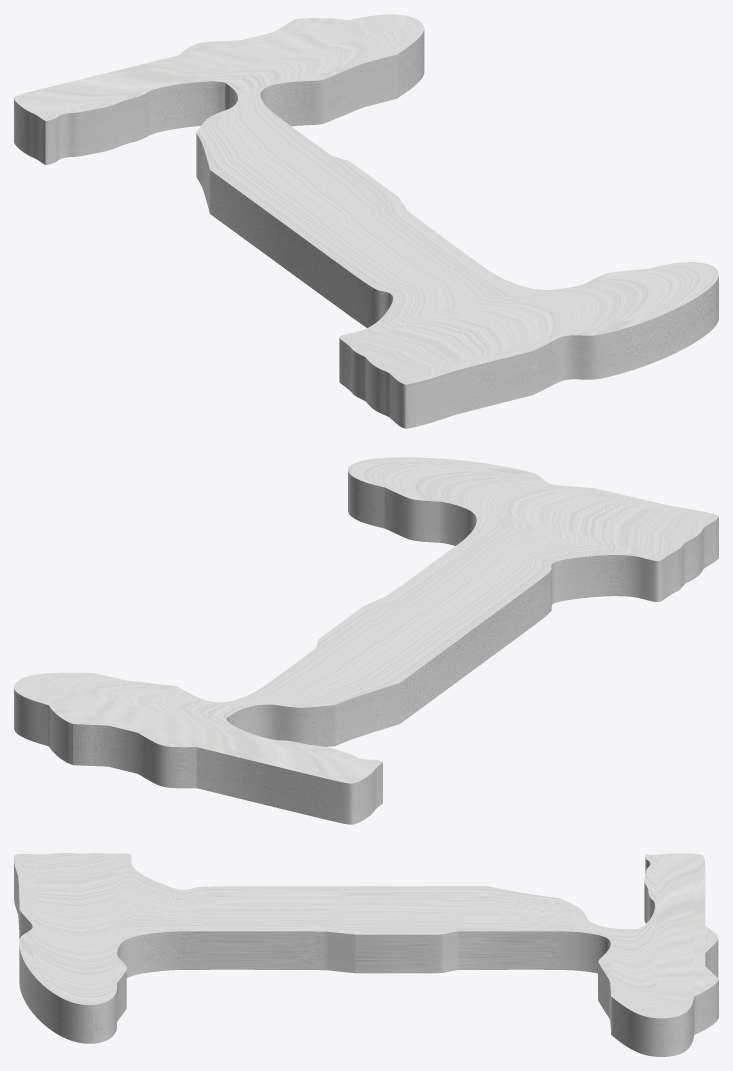
3 renders of one model, top to bottom at view 1: azimuth 30°, elevation 25°; view 2: azimuth 150°, elevation 25°; view 3: azimuth 270°, elevation 25°, orthographic. The views are drawn at different scales.
Size of the model in its own units: 0.0178 by 0.00194 by 0.0321.
1 material, 1 textured.
